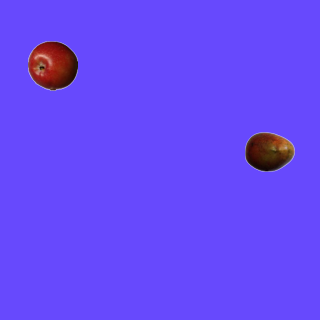Apple Braeburn: (27, 40, 77, 90)
Mango Red: (244, 126, 294, 176)
